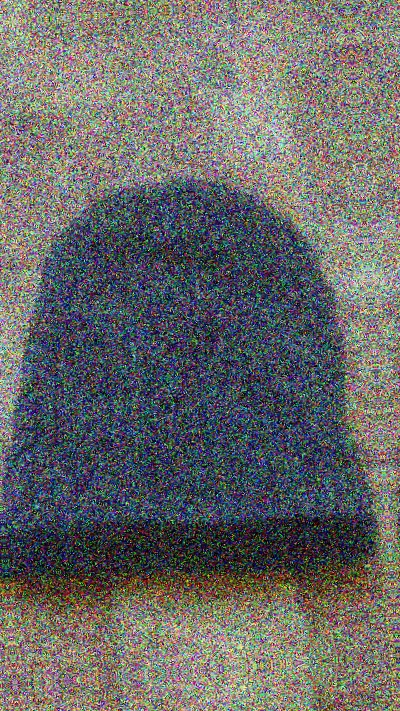Hat: (0, 108, 376, 616), (373, 77, 400, 585), (0, 137, 7, 644)
